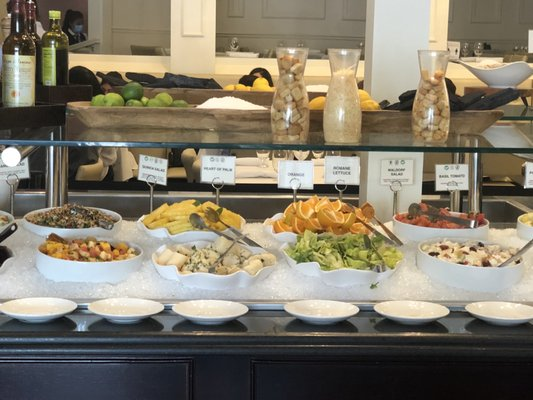salad: (497, 239, 533, 268)
sushi: (416, 237, 530, 294), (35, 231, 144, 290), (23, 204, 123, 238), (88, 297, 164, 325), (0, 297, 78, 324), (284, 299, 361, 325), (171, 300, 249, 325), (374, 300, 451, 325), (465, 301, 533, 326), (516, 212, 533, 242)
